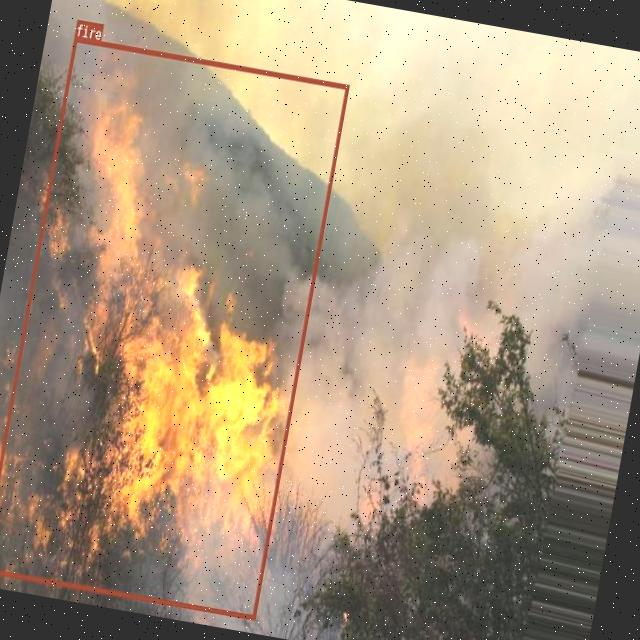fire: (0, 35, 348, 618)
